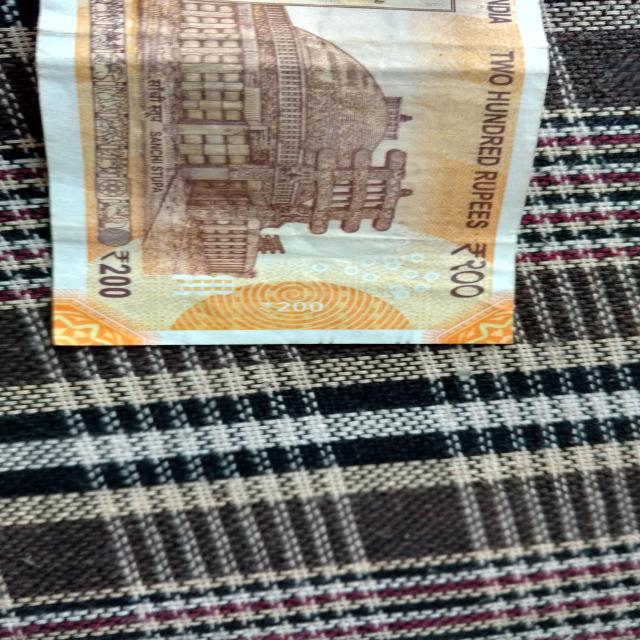Currency: (62, 0, 558, 345)
